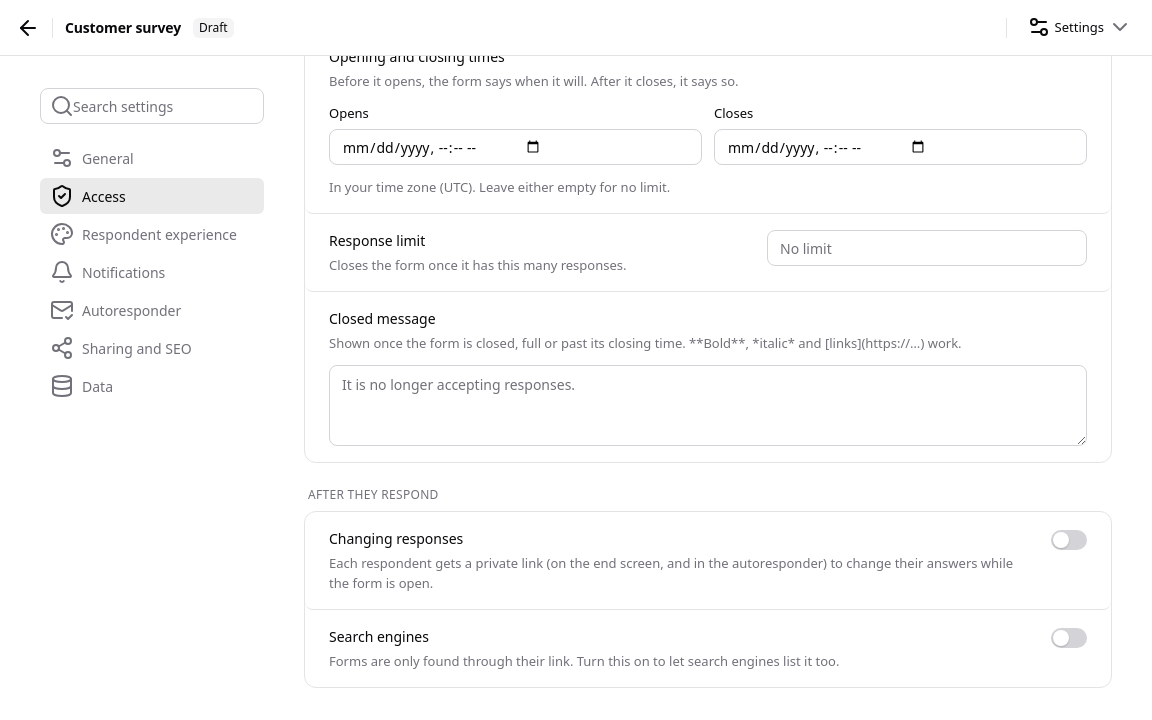
Test: FormSettingsPage › saves an access setting as soon as it changes, and says so
The width and height of the screenshot is (1152, 720).
(page scrolled)
Click the switch named "Changing responses" in the row of "Changing responses": (1069,540) [1051,530,1087,550]
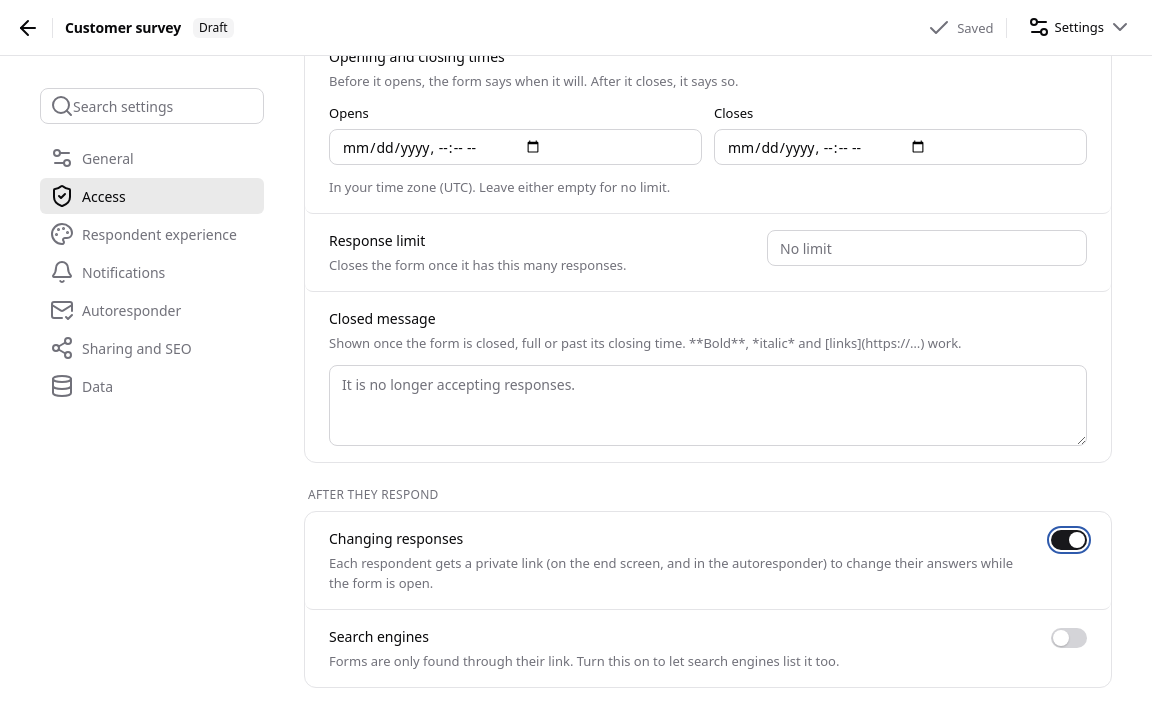
Expected: the switch named "Changing responses" in the row of "Changing responses" is checked, [1051,530,1087,550]
Expected: the text "Saved" is shown, [927,16,994,40]
